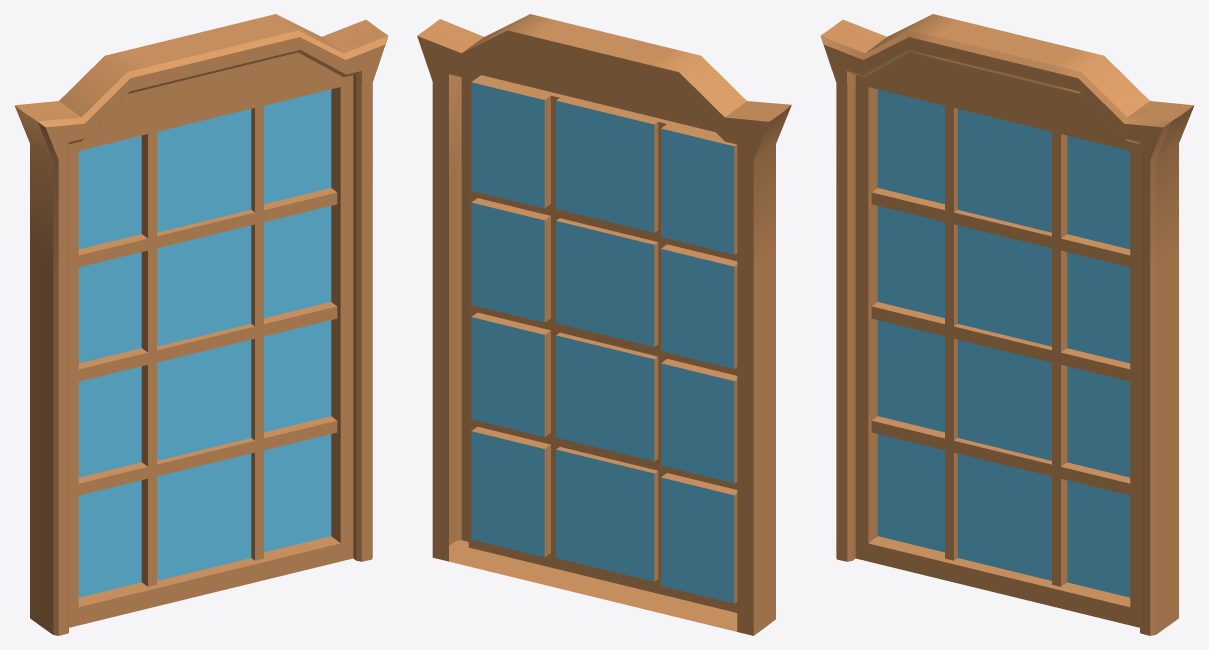
Rendered from Window12CatEars.fbx.
The picture shows the model from 3 angles, left to right: view 1: azimuth 30°, elevation 25°; view 2: azimuth 150°, elevation 25°; view 3: azimuth 330°, elevation 25°; orthographic projection.
Parts seen in each view (by area): view 1: Window12CatEars; view 2: Window12CatEars; view 3: Window12CatEars.
Boxes of the visible parts, x1=… form: Window12CatEars: x1=14, y1=14, x2=388, y2=635; Window12CatEars: x1=417, y1=14, x2=791, y2=635; Window12CatEars: x1=820, y1=14, x2=1194, y2=635.
Bounding box in the file's own units: 1.61 × 0.1999 × 2.39.
